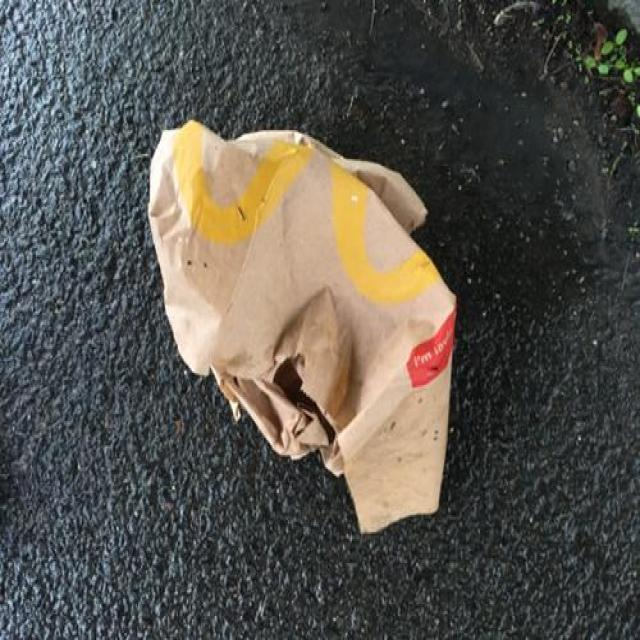Paper: (144, 119, 458, 538)
